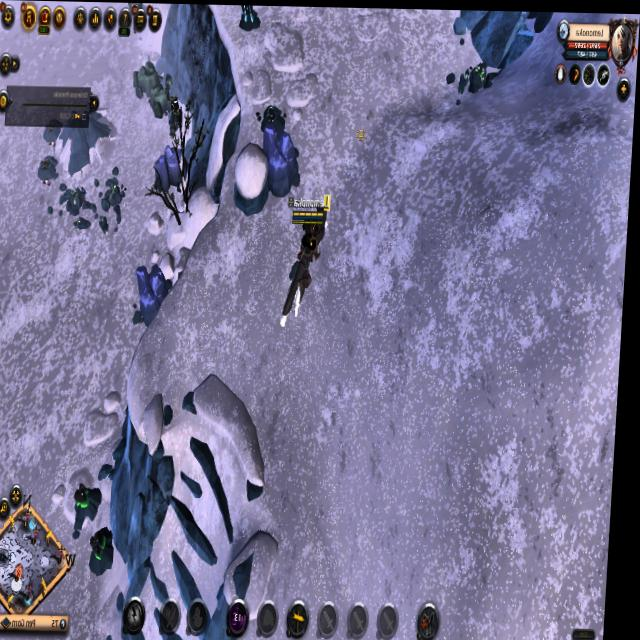ore tier 3: (94, 521, 122, 576), (79, 480, 108, 530)
rock tier 4: (260, 124, 305, 197), (136, 255, 178, 329), (154, 138, 189, 194)
